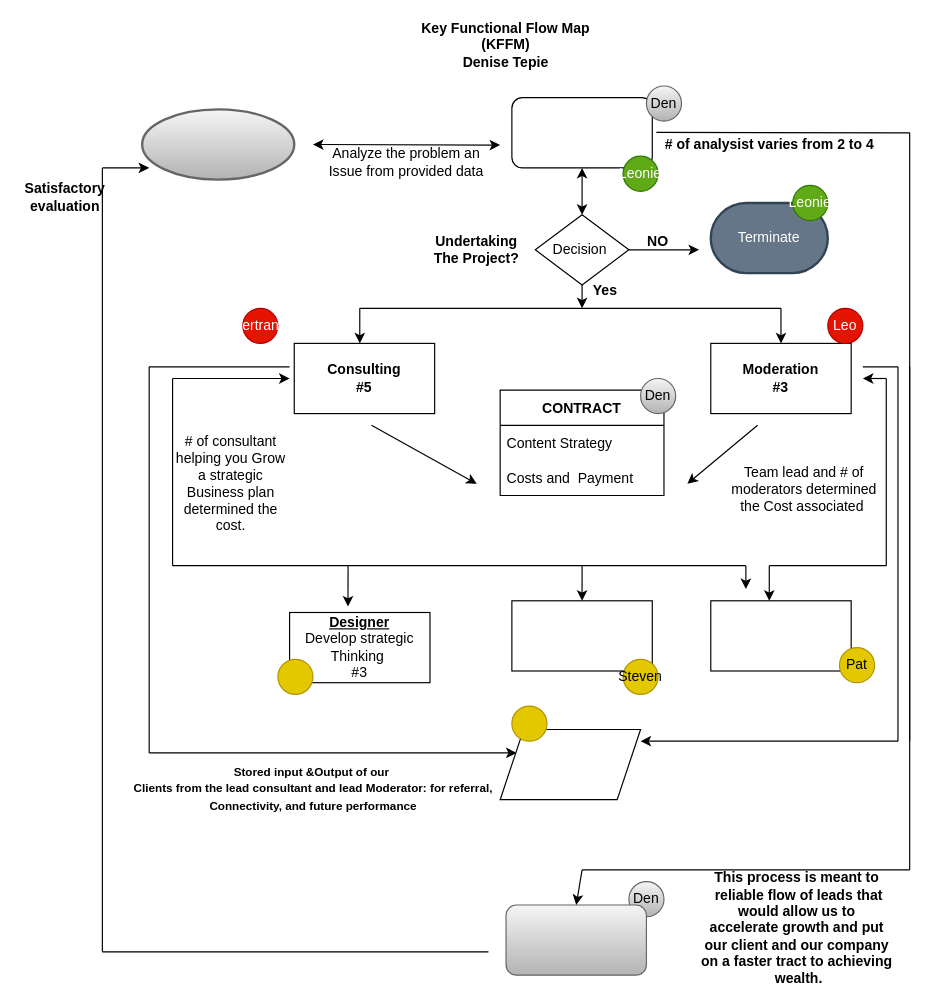
This 931x1007 diagram has some shape labels left out. Here are the shapes that lost their labels. From the top down, the centre of each, then its label:
At point 217,144: "Clients".
At point 581,132: "Analysts".
At point 581,635: "Marketing Execution Planning # 5 Marketors".
At point 780,635: "Finance #2".
At point 295,676: "Andy".
At point 529,723: "TED".
At point 570,764: "IT Department #2".
At point 575,939: "Controller #1".
